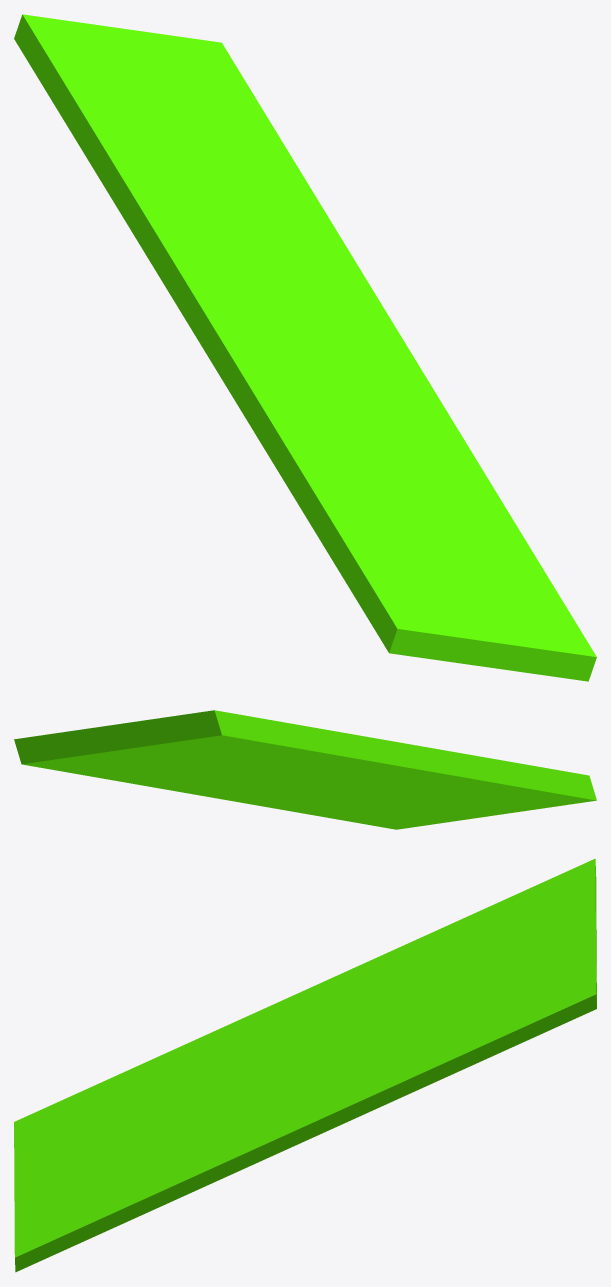
File: nrw_planks_bank_slope192_384_COL.fbx
3 views of the same model, one above another, from view 1: azimuth 30°, elevation 25°; view 2: azimuth 150°, elevation 25°; view 3: azimuth 270°, elevation 25° (orthographic). The views are drawn at different scales.
Parts seen in each view (by area): view 1: nrw_planks_bank_slope192_384_COL; view 2: nrw_planks_bank_slope192_384_COL; view 3: nrw_planks_bank_slope192_384_COL.
Part boxes in pixels (<box>): nrw_planks_bank_slope192_384_COL: <box>14,14,596,681</box>; nrw_planks_bank_slope192_384_COL: <box>14,710,596,829</box>; nrw_planks_bank_slope192_384_COL: <box>14,858,596,1272</box>.
Bounding box in the file's own units: 123 × 249 × 385.
